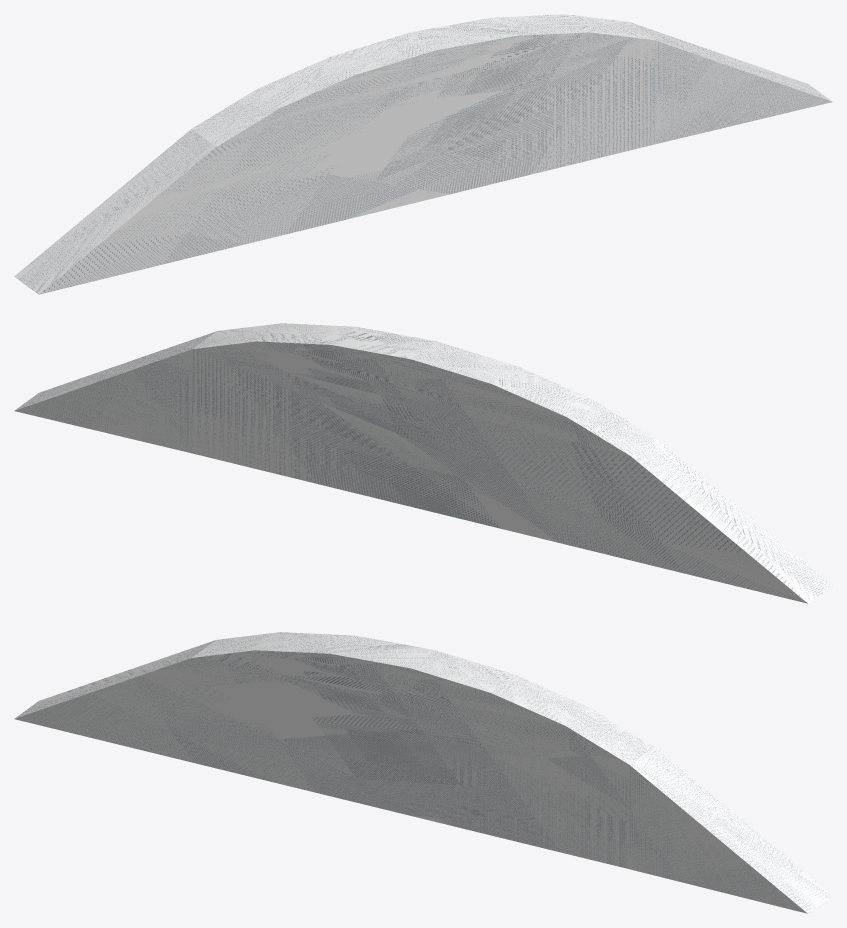
The model's file is senti-mesh-fear-2.dae.
3 views of the same model, one above another, from view 1: azimuth 30°, elevation 25°; view 2: azimuth 150°, elevation 25°; view 3: azimuth 330°, elevation 25° (orthographic).
Parts seen in each view (by area): view 1: group_0; view 2: group_0; view 3: group_0.
Part boxes in pixels (<box>): group_0: <box>14,14,832,294</box>; group_0: <box>14,323,832,603</box>; group_0: <box>14,632,832,913</box>.
Size of the model in its own units: 5.29 by 0.2866 by 0.9457.
